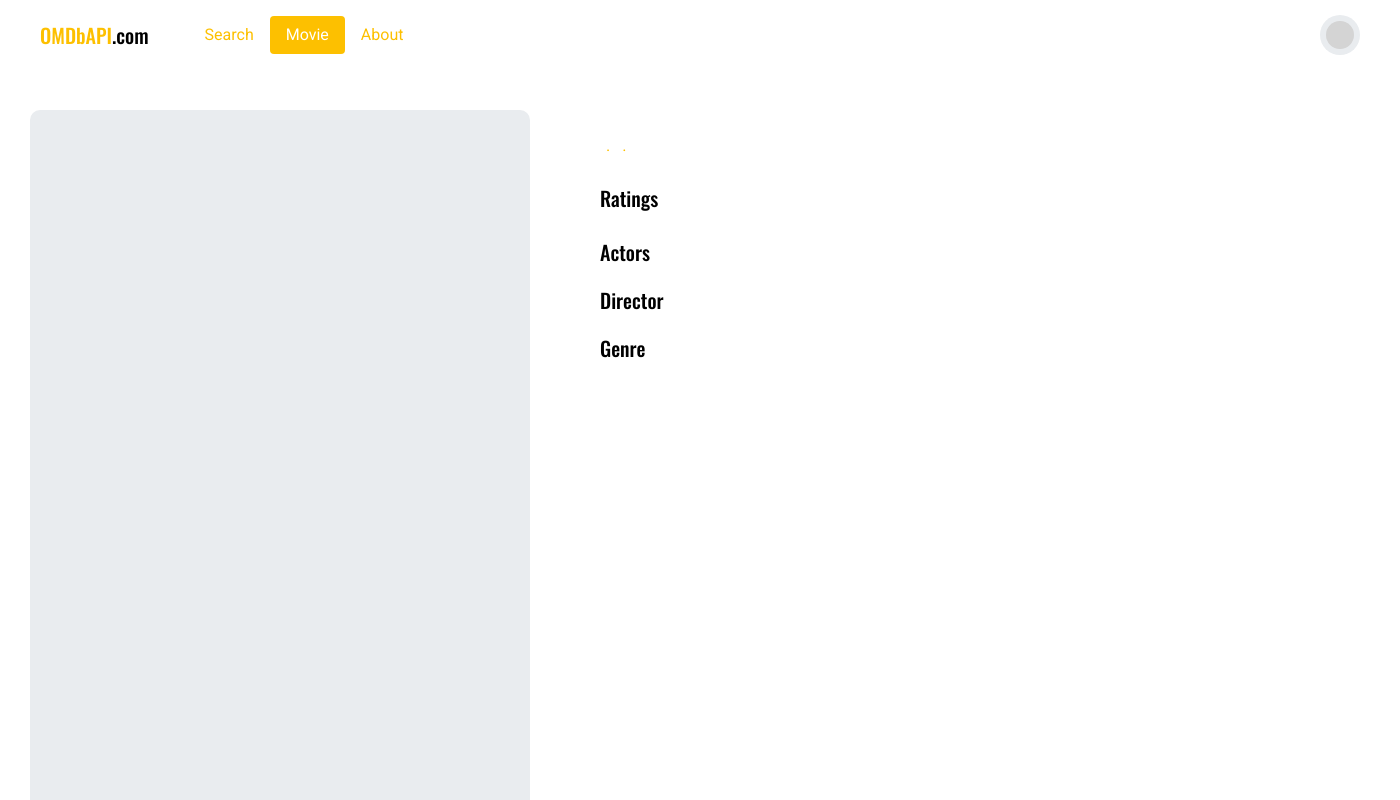
Test case: About 페이지 이동 › About 페이지로 이동합니다.
Click the element with class "user". click: (1340, 35)
box: [1320, 15, 1360, 55]
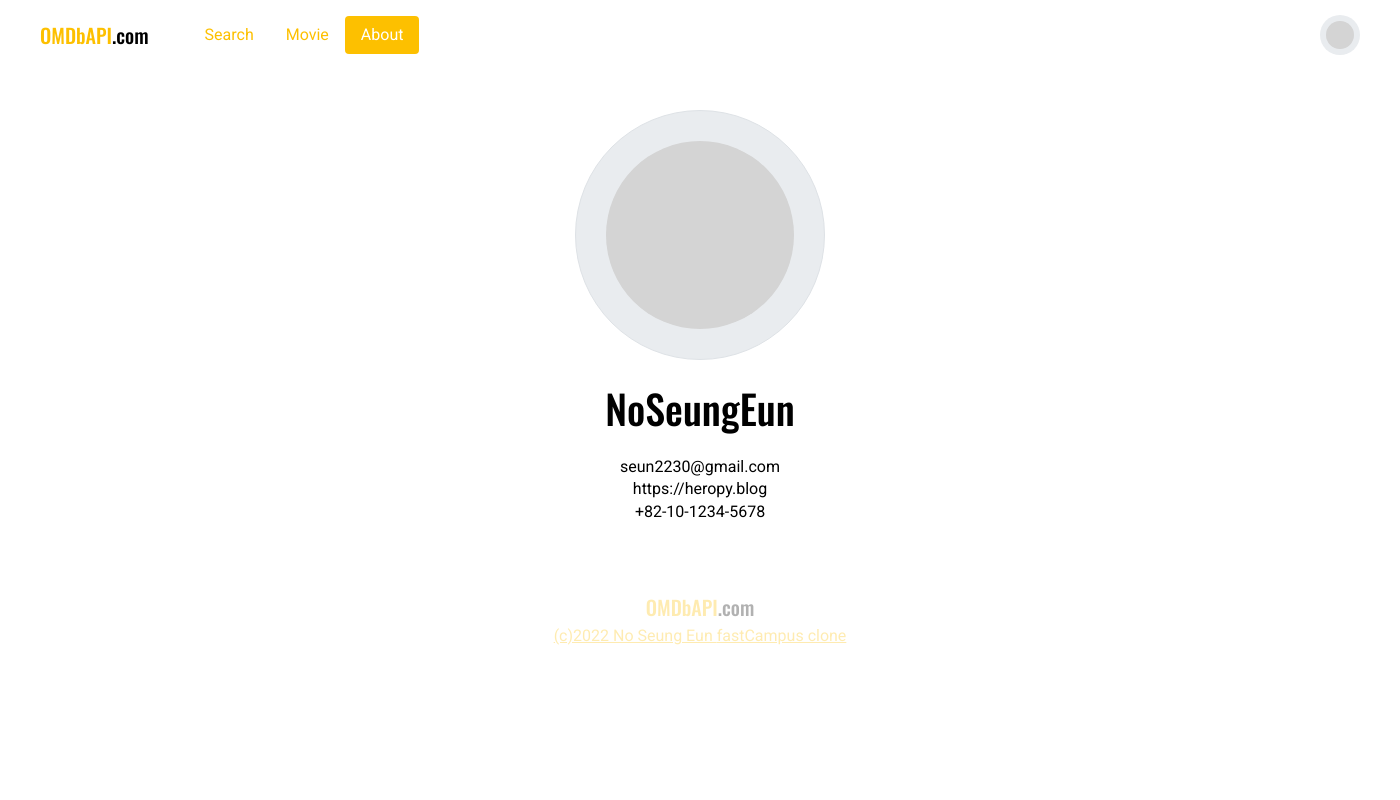
Expected: the link "About" is shown, [345, 16, 419, 54]
Now the text "NoSeungEun" is shown, box [605, 378, 795, 438]
